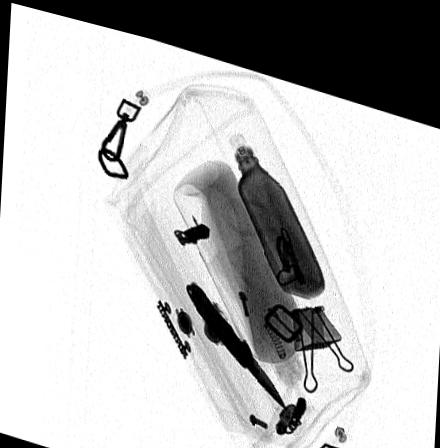Knife: (183, 271, 287, 396)
